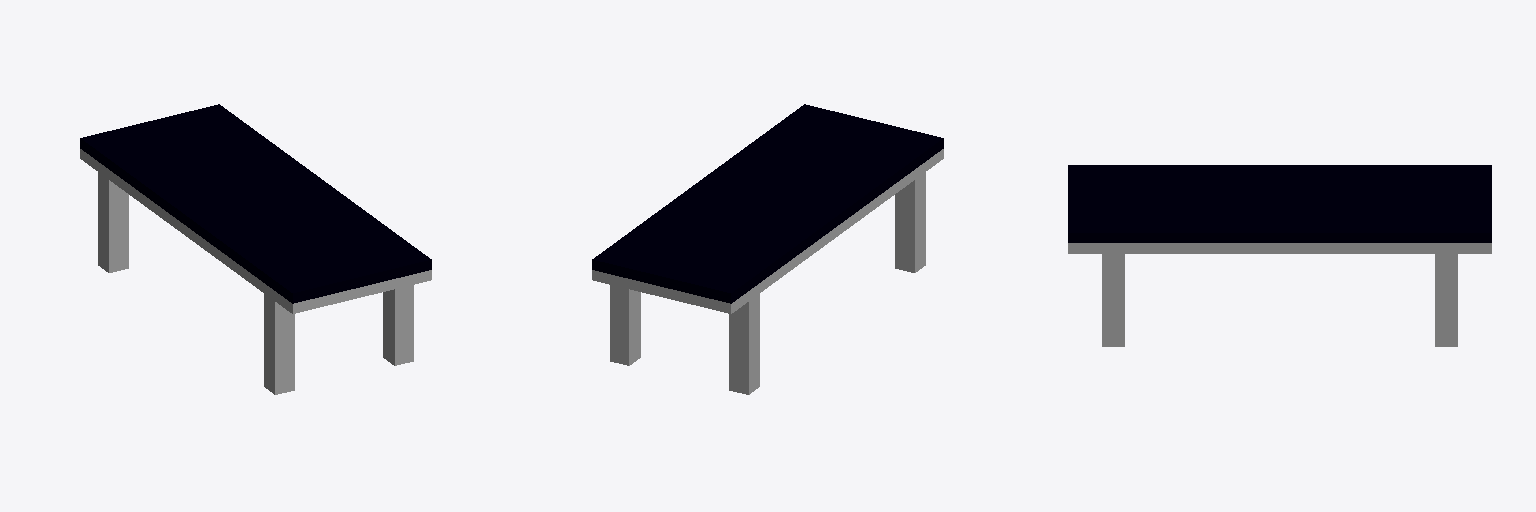
The picture shows the model from 3 angles: view 1: azimuth 30°, elevation 25°; view 2: azimuth 150°, elevation 25°; view 3: azimuth 270°, elevation 25°; orthographic projection.
Parts seen in each view (by area): view 1: banco; view 2: banco; view 3: banco.
Boxes of the visible parts, box(x1,y1,x2,y2) form: banco: box(80, 104, 431, 394); banco: box(592, 104, 943, 394); banco: box(1068, 165, 1491, 346).
Size of the model in its own units: 14 by 11 by 37.
Materials: 1 (1 with a texture image).